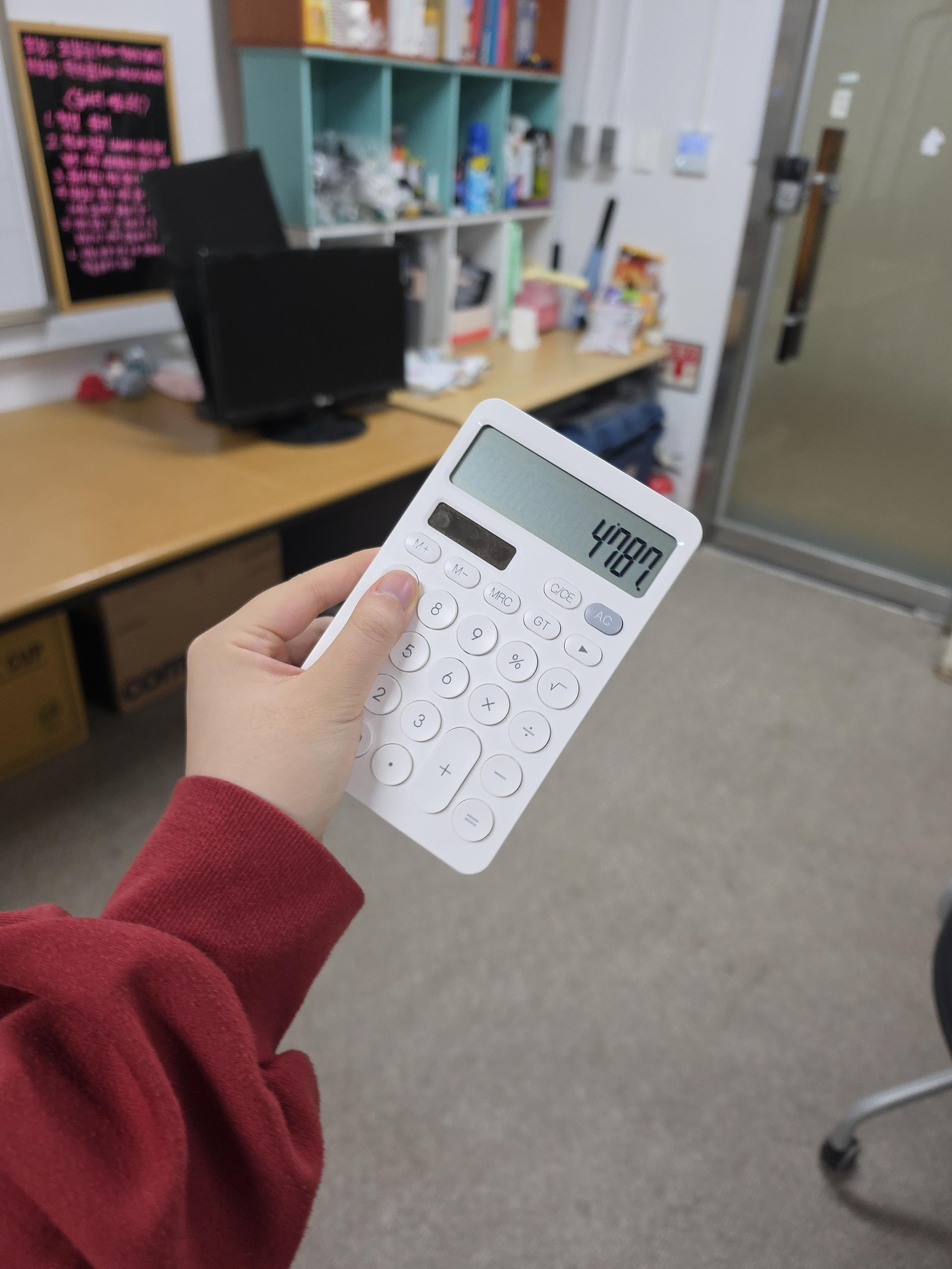calculator: (302, 398, 704, 875)
